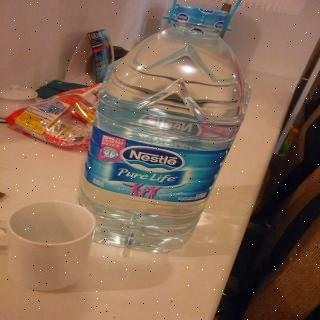Plastic-bottle: (79, 1, 256, 257)
